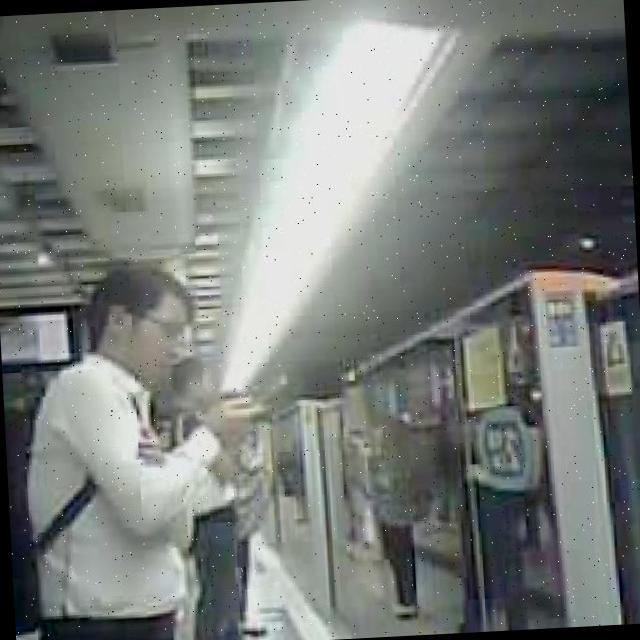person: (14, 259, 252, 640), (157, 354, 265, 640)
